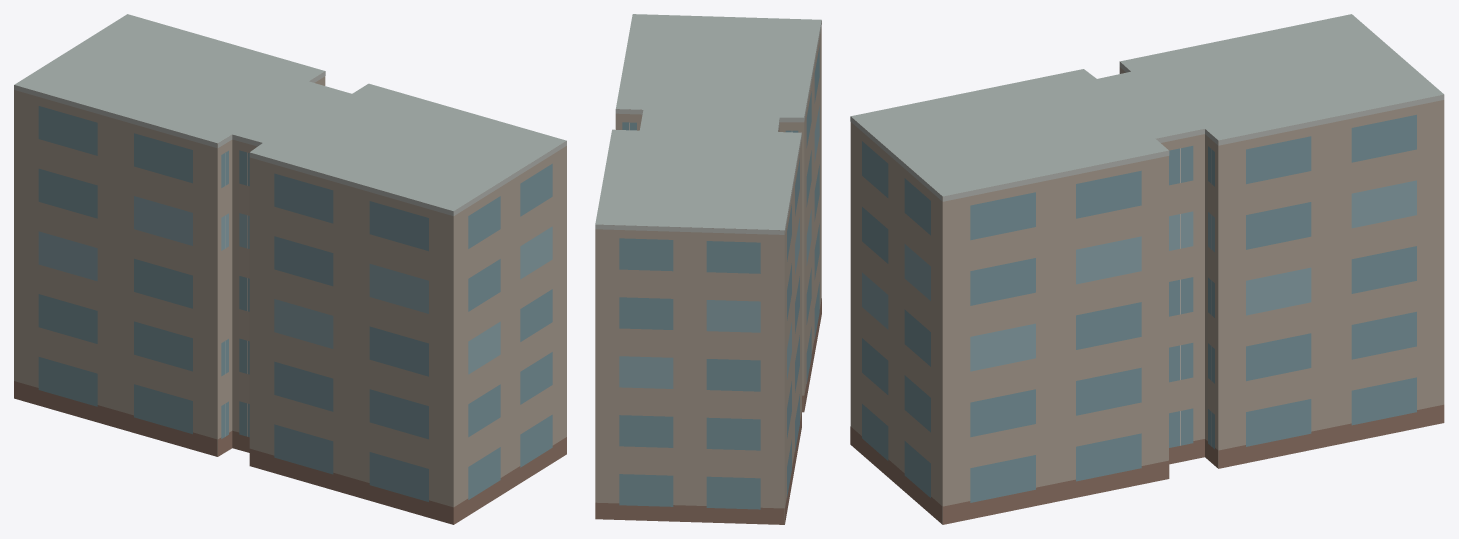
Rendered from survey-upis-33003914.glb.
3 renders of one model, left to right at view 1: azimuth 30°, elevation 25°; view 2: azimuth 150°, elevation 25°; view 3: azimuth 270°, elevation 25°, orthographic. The views are drawn at different scales.
Visible parts, largest first — view 1: survey-upis-33003914.tmp; view 2: survey-upis-33003914.tmp; view 3: survey-upis-33003914.tmp.
Part boxes in pixels (<box>): survey-upis-33003914.tmp: <box>14,14,566,524</box>; survey-upis-33003914.tmp: <box>595,14,821,524</box>; survey-upis-33003914.tmp: <box>850,14,1444,524</box>.
Size of the model in its own units: 18.19 by 15.25 by 25.01.
